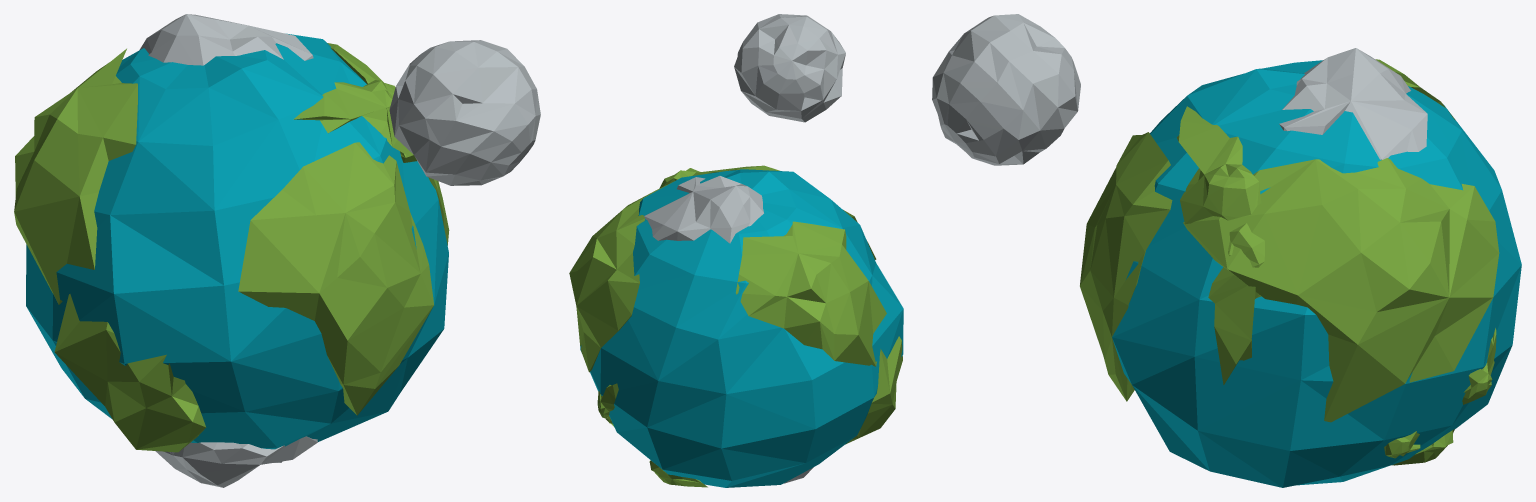
3 views of the same model, side by side, from view 1: azimuth 30°, elevation 25°; view 2: azimuth 150°, elevation 25°; view 3: azimuth 270°, elevation 25° (orthographic). The views are drawn at different scales.
Parts seen in each view (by area): view 1: node_MeshObject-1736600512-PolyPaper15; view 2: node_MeshObject-1736600512-PolyPaper15; view 3: node_MeshObject-1736600512-PolyPaper15.
Part boxes in pixels (x1,y1,x2,y2): node_MeshObject-1736600512-PolyPaper15: [14, 14, 540, 487]; node_MeshObject-1736600512-PolyPaper15: [569, 14, 903, 487]; node_MeshObject-1736600512-PolyPaper15: [932, 14, 1521, 487].
Bounding box in the file's own units: 0.352 × 0.4456 × 0.4712.
